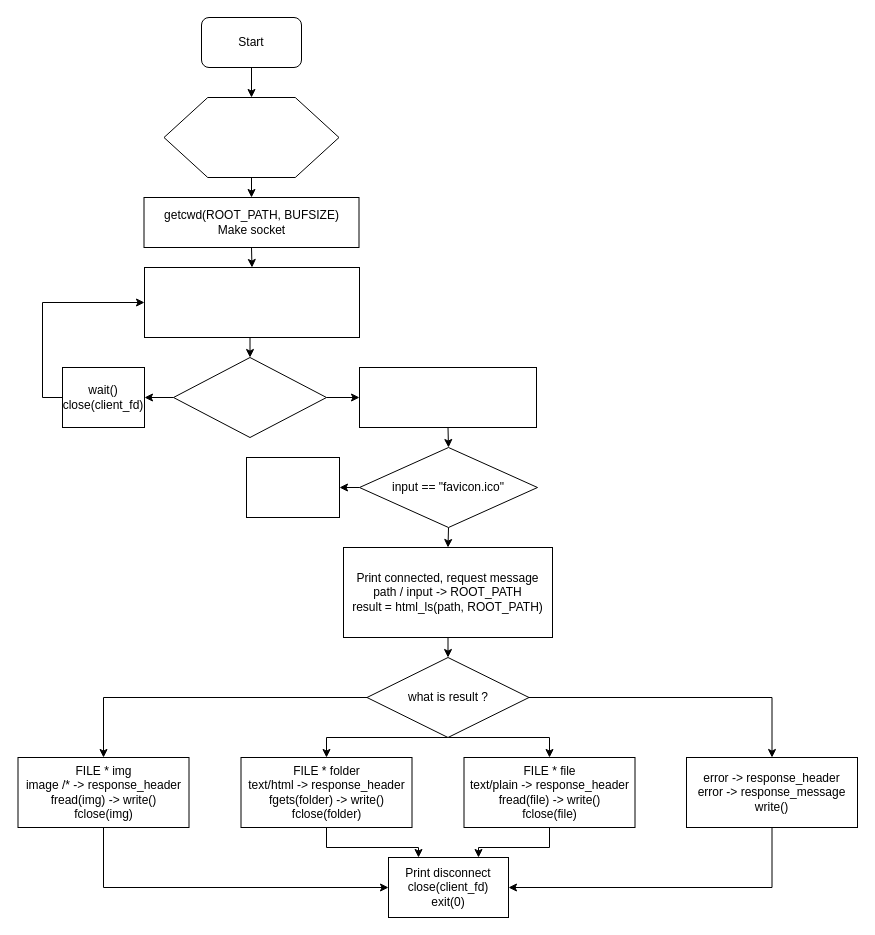
Image size: 875x935. Some labels were removed from this diagram. Here are the shapes that lost their labels. From the top down, the centre of each, then its label:
(x=251, y=137): struct sockaddr_in int socket_fd, client_fd pid_t pid char ROOT_PATH[]
(x=252, y=302): chdir(ROOT_PATH) client_fd = accept() pid = fork()
(x=249, y=397): pid == 0 ?
(x=447, y=397): read(client_fd, buf, BUFSIZE) strtok(buf) -> input
(x=293, y=487): close(client_fd) exit(0)
